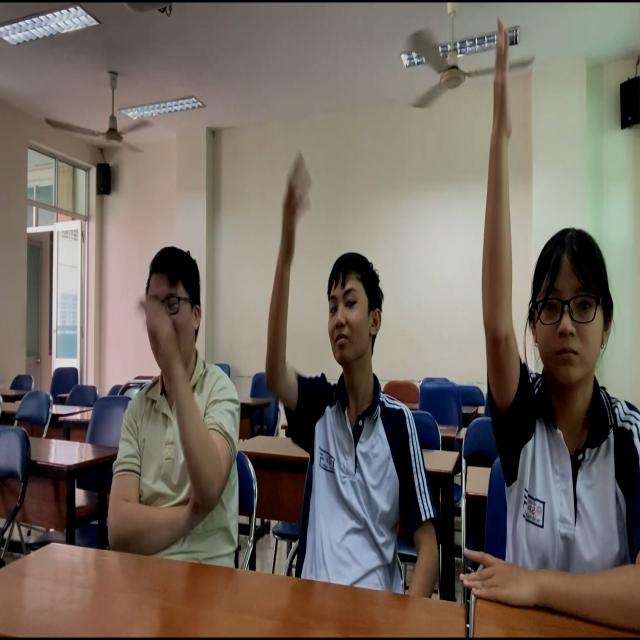raise_hand: (469, 9, 640, 640), (266, 159, 421, 571), (101, 234, 236, 566)
